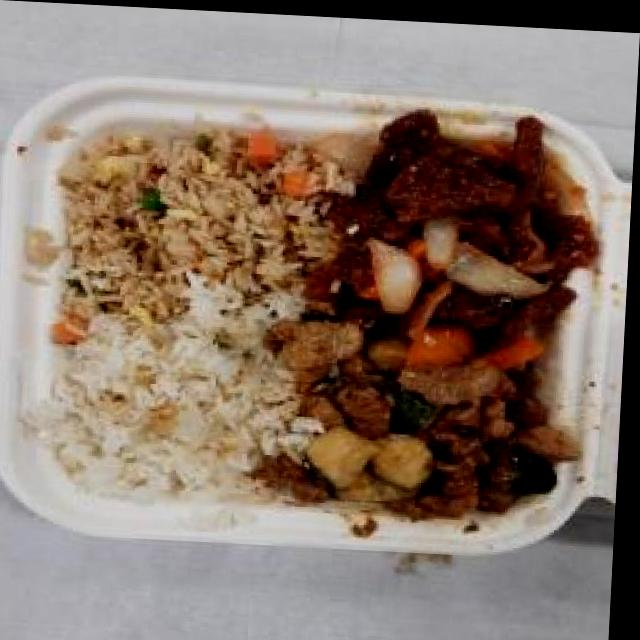Beijing Beef: (300, 96, 620, 333)
Fried Rice: (55, 113, 314, 328)
Kung Pao Chicken: (283, 302, 584, 524)
White Steamed Rice: (40, 325, 295, 506)
